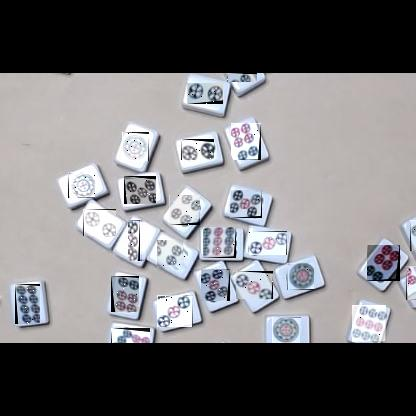1p: (122, 132, 149, 161), (272, 317, 301, 343), (287, 263, 314, 290), (68, 172, 95, 198)
2p: (83, 209, 116, 236), (187, 83, 223, 104), (181, 139, 214, 160)
3p: (157, 295, 193, 327), (236, 271, 273, 299), (249, 231, 287, 255), (129, 220, 145, 261)
4p: (169, 195, 200, 225), (158, 241, 188, 270), (227, 73, 257, 82)
5p: (201, 269, 230, 301), (124, 176, 156, 204), (230, 190, 262, 218), (410, 220, 416, 251)
6p: (367, 245, 400, 281), (231, 123, 261, 160), (111, 276, 139, 312)
7p: (111, 328, 150, 343), (406, 266, 416, 300)
8p: (15, 284, 40, 324)
9p: (352, 305, 386, 342), (203, 227, 236, 258)
